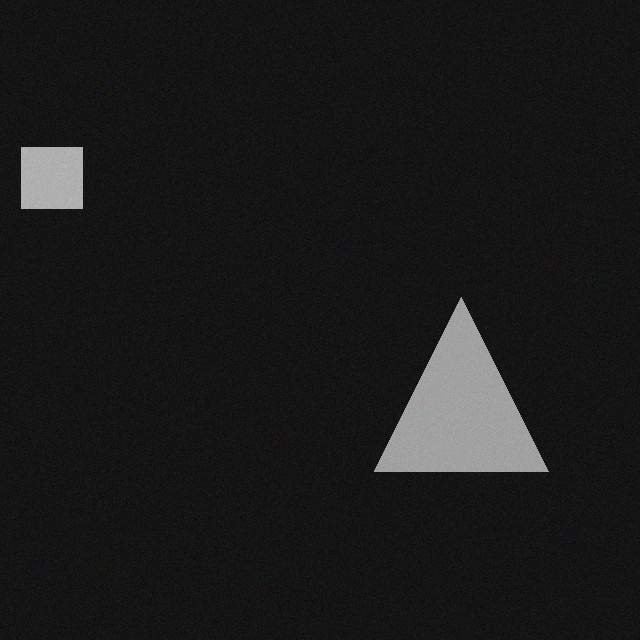square: (26, 157, 87, 218)
triangle: (379, 307, 553, 481)
